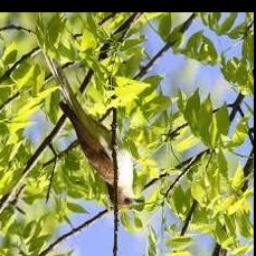Cuckoo: (41, 47, 144, 210)
